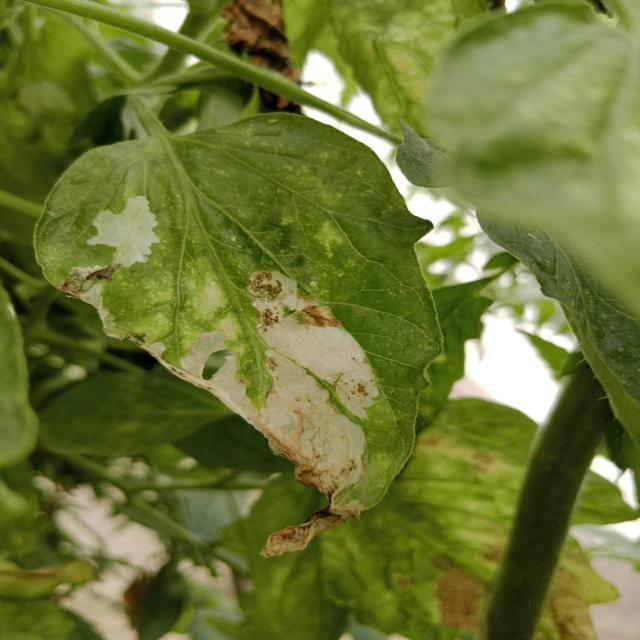Tuta absoluta: (170, 252, 430, 504), (78, 191, 172, 281)
